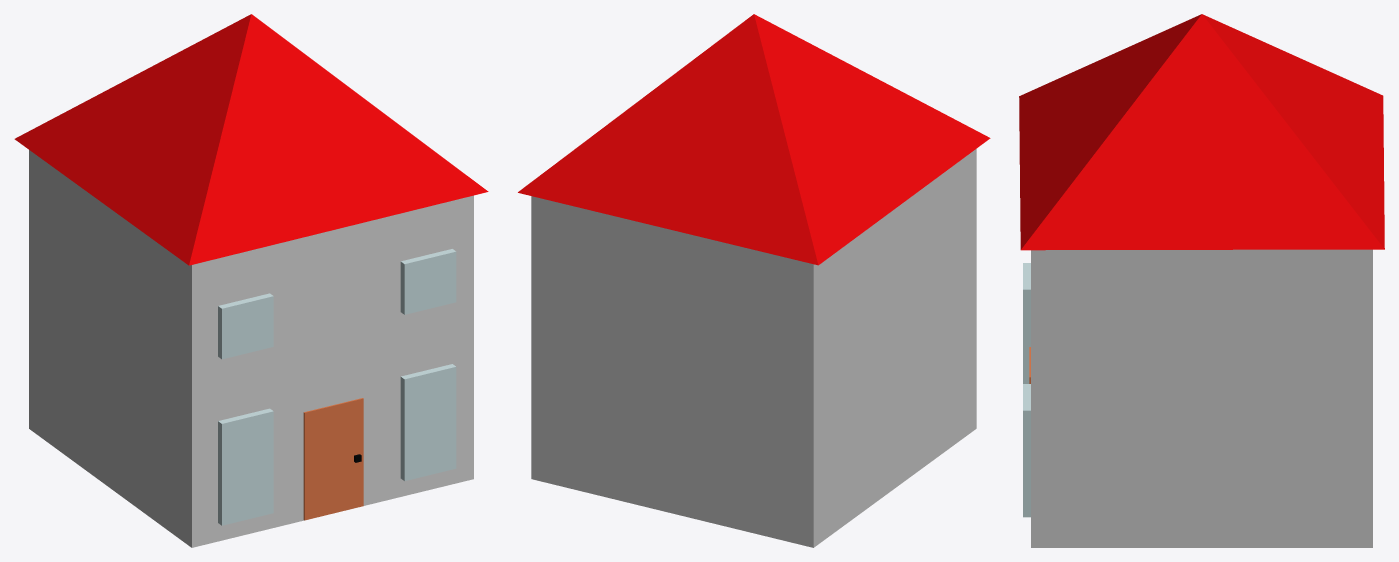
Rendered from Casa 4.fbx.
3 renders of one model, left to right at view 1: azimuth 30°, elevation 25°; view 2: azimuth 150°, elevation 25°; view 3: azimuth 270°, elevation 25°, orthographic. The views are drawn at different scales.
Visible parts, largest first — view 1: Cube, Cone, Cube.001, Cube.003, Cube.004, Cube.005, Cube.006; view 2: Cube, Cone; view 3: Cube, Cone, Cube.003, Cube.005.
Boxes of the visible parts, x1=… form: Cube: x1=29, y1=150, x2=473, y2=547; Cone: x1=14, y1=14, x2=488, y2=265; Cube.001: x1=303, y1=398, x2=363, y2=520; Cube.003: x1=400, y1=364, x2=456, y2=481; Cube.004: x1=218, y1=408, x2=273, y2=525; Cube.005: x1=400, y1=249, x2=456, y2=314; Cube.006: x1=218, y1=293, x2=273, y2=359; Cube: x1=531, y1=149, x2=976, y2=547; Cone: x1=518, y1=14, x2=990, y2=265; Cube: x1=1031, y1=249, x2=1372, y2=547; Cone: x1=1019, y1=14, x2=1384, y2=250; Cube.003: x1=1023, y1=384, x2=1030, y2=517; Cube.005: x1=1023, y1=263, x2=1030, y2=342.
Bounding box in the file's own units: 134 × 186 × 134.
